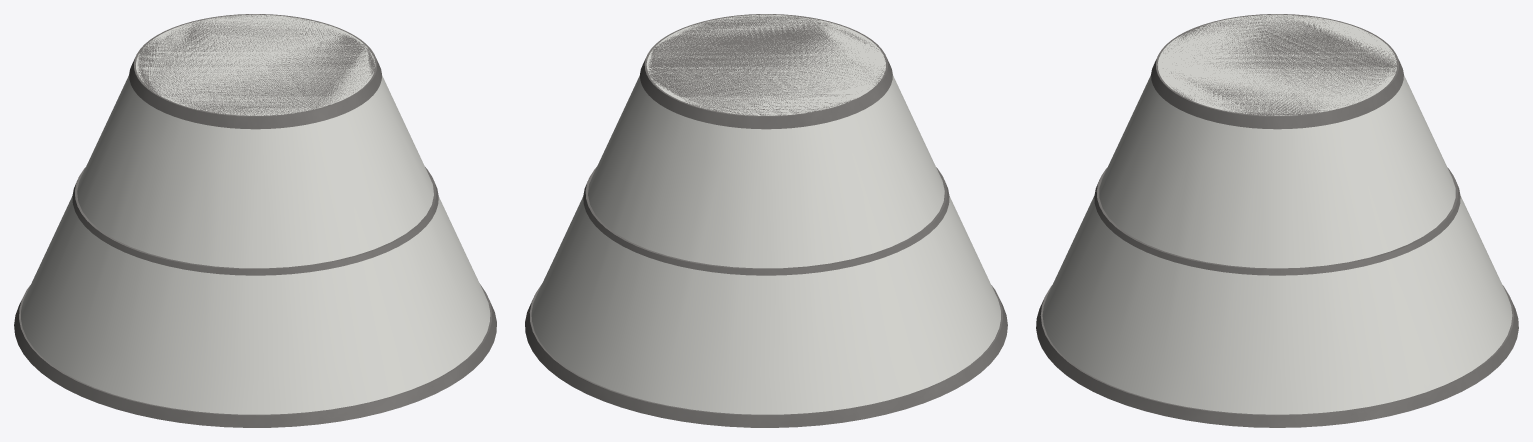
The model's file is tank12_tank_adapter_s_m.glb.
3 views of the same model, side by side, from view 1: azimuth 30°, elevation 25°; view 2: azimuth 150°, elevation 25°; view 3: azimuth 270°, elevation 25° (orthographic).
Visible parts, largest first — view 1: shell, ring_frames, mid_frame; view 2: shell, ring_frames, mid_frame; view 3: shell, ring_frames, mid_frame.
Part boxes in pixels (x1,y1,x2,y2): shell: [21, 14, 490, 414]; ring_frames: [14, 14, 496, 427]; mid_frame: [72, 167, 438, 275]; shell: [531, 14, 1000, 414]; ring_frames: [525, 14, 1007, 427]; mid_frame: [583, 167, 949, 275]; shell: [1042, 14, 1512, 414]; ring_frames: [1036, 14, 1518, 427]; mid_frame: [1094, 167, 1460, 275].
Bounding box in the file's own units: 2.52 × 1.5 × 2.52.
Materials: 3 (1 with a texture image).
